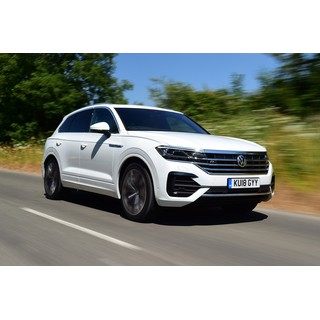car: (41, 103, 277, 220)
